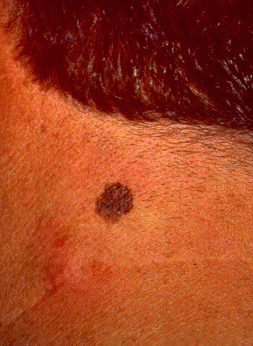melanoma: (61, 143, 165, 242)
